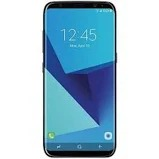samsung: (41, 1, 118, 159)
